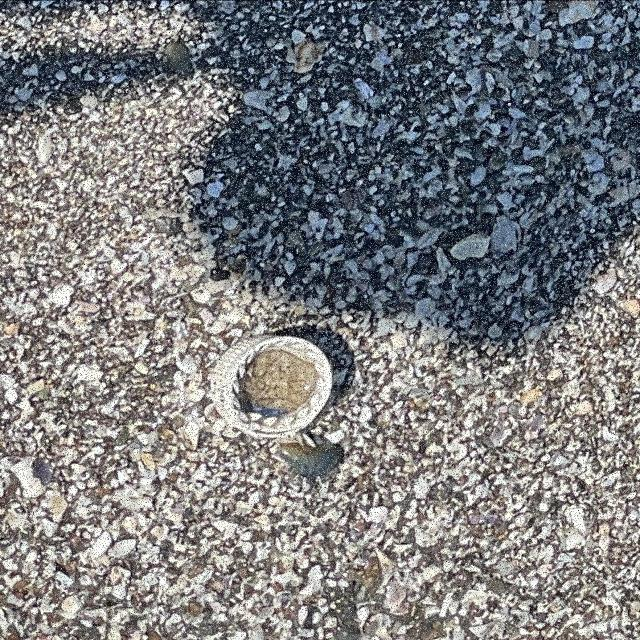plastic_waste: (212, 332, 336, 439)
